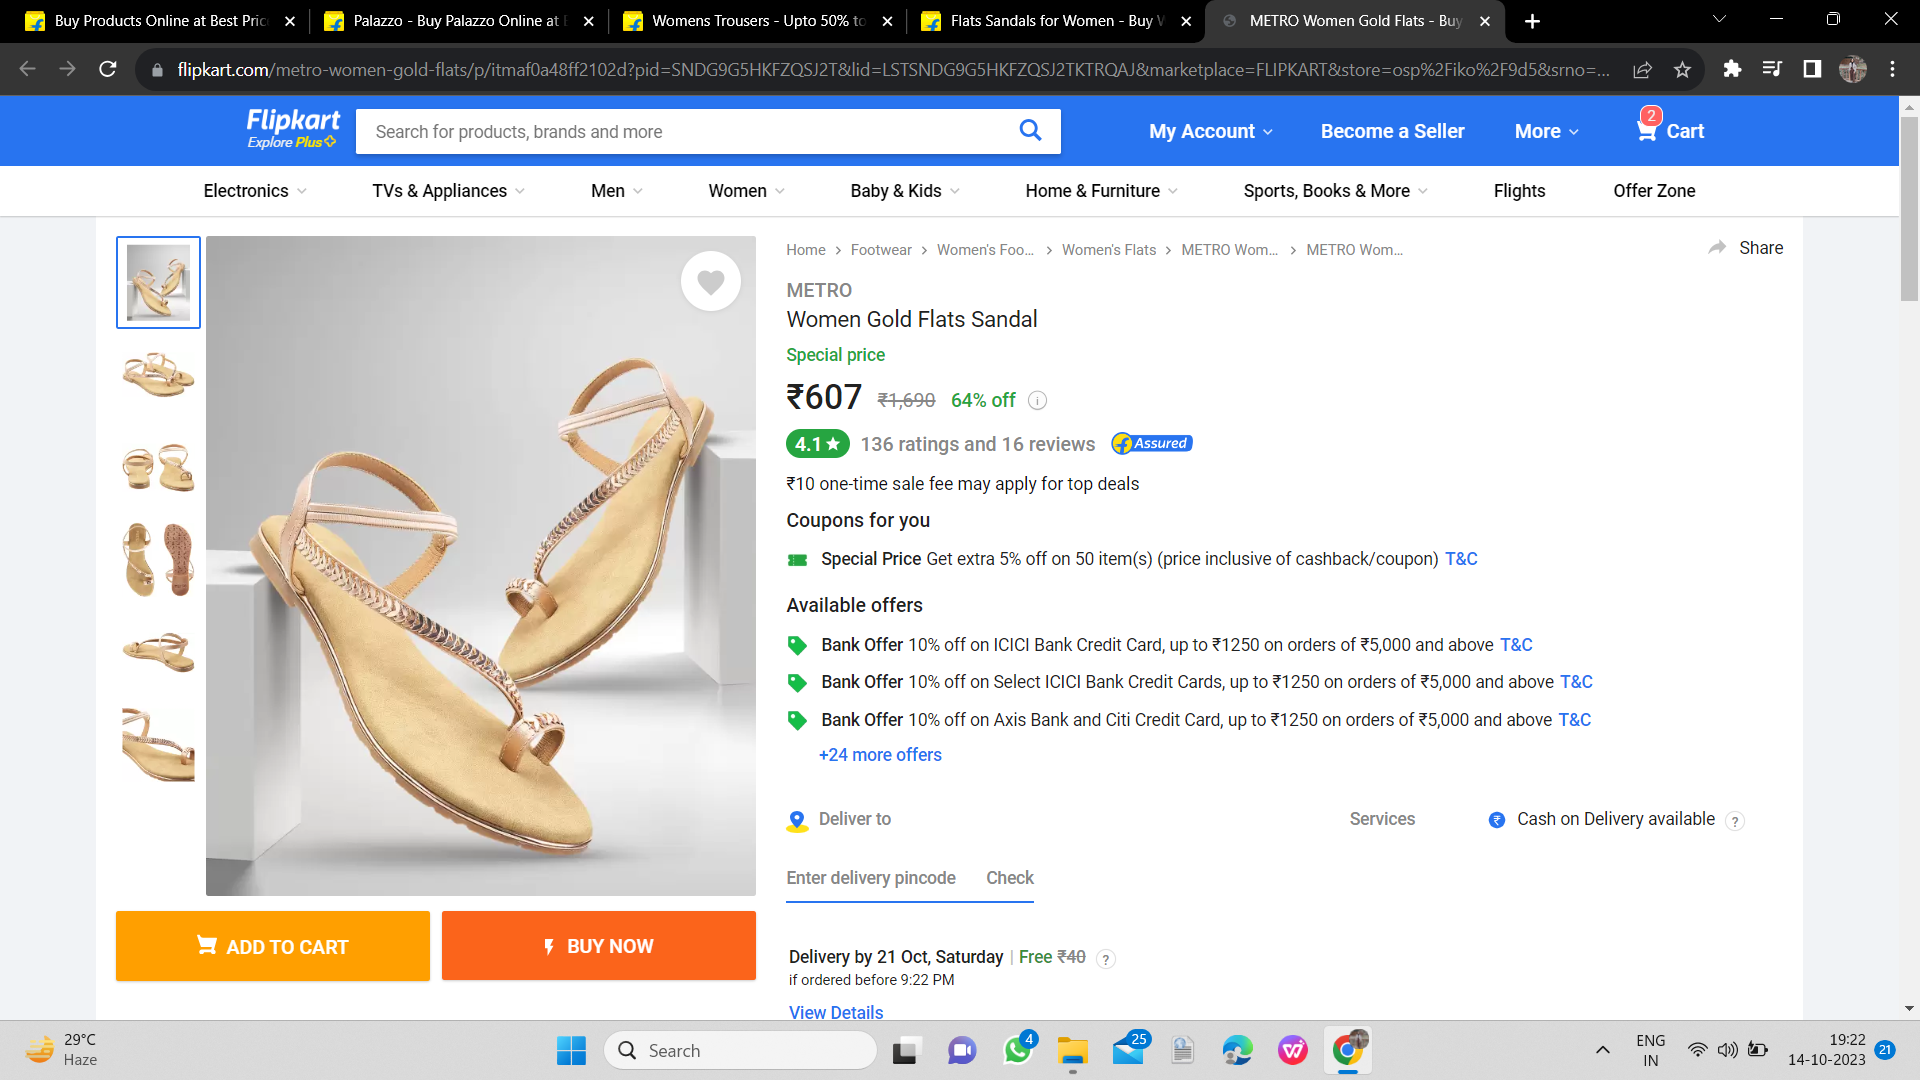Image: (210, 237, 757, 898)
Paragraph: (779, 625, 1609, 774), (98, 906, 770, 993), (1120, 105, 1720, 160), (779, 539, 1485, 574), (773, 410, 1205, 459), (791, 807, 1035, 885), (773, 281, 1058, 347), (1319, 798, 1716, 837), (779, 349, 1029, 410), (767, 471, 1153, 505), (777, 939, 1007, 969), (777, 591, 936, 624), (777, 512, 939, 533)
